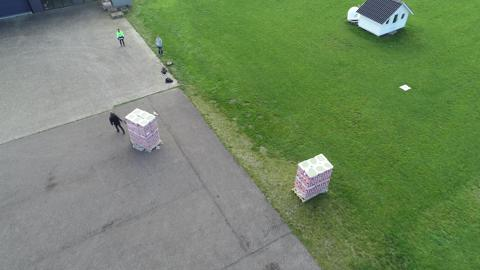RockwoolPallet: (124, 107, 163, 154)
